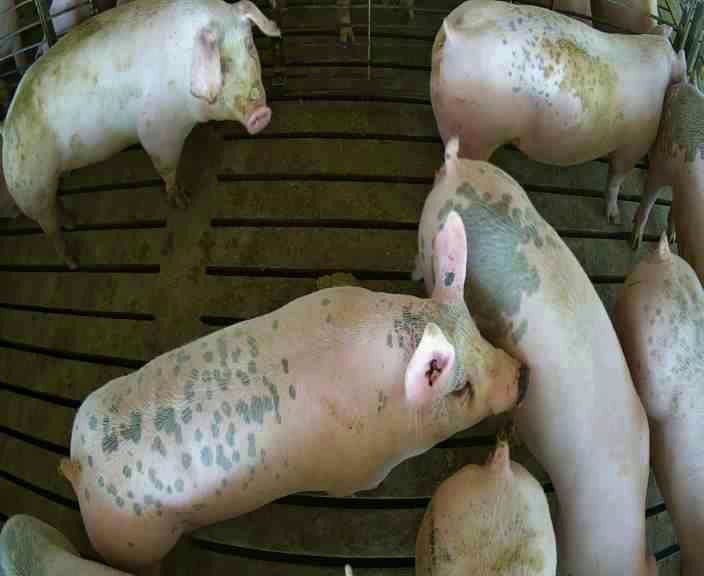pig: (4, 2, 279, 267), (431, 2, 686, 214), (617, 236, 703, 574), (416, 435, 555, 575), (633, 81, 703, 282)
